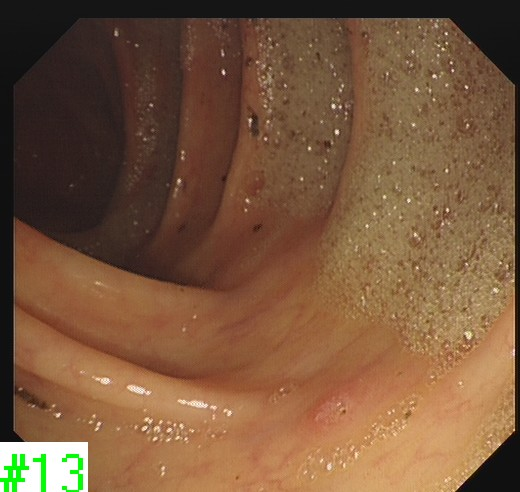adenoma: (306, 387, 356, 428)
